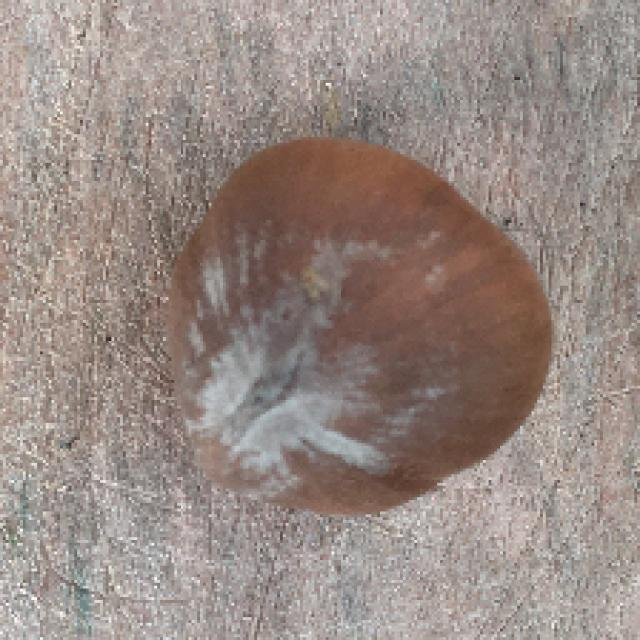qualityHazelnut: (182, 130, 551, 529)
